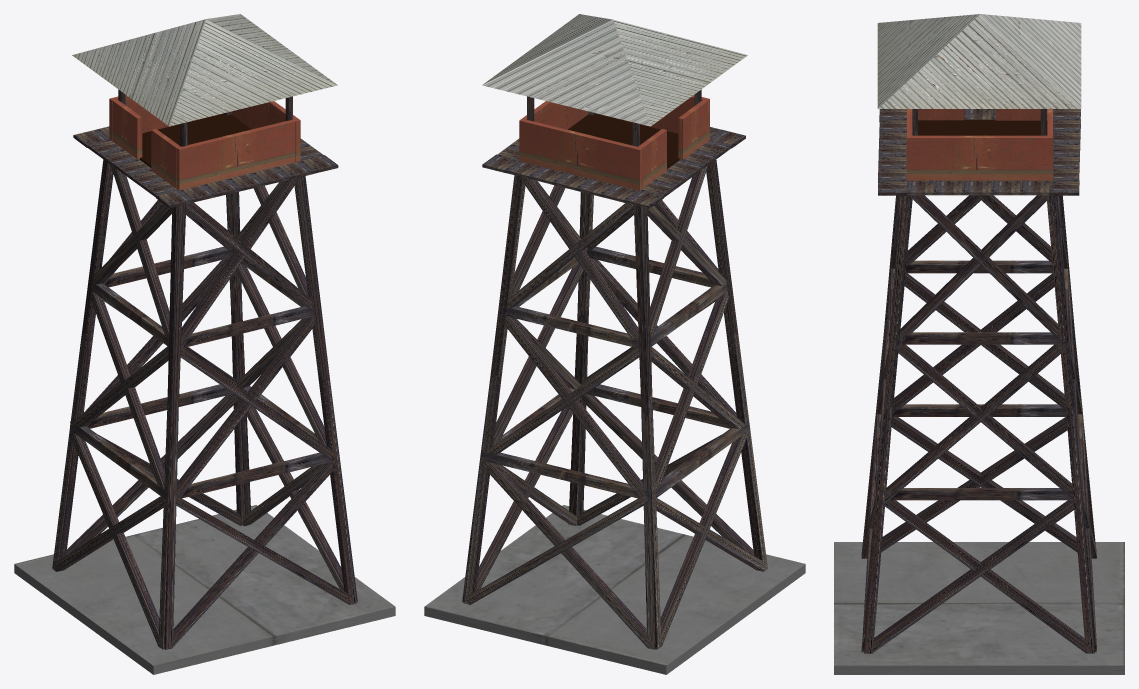
File: Guard_Tower.fbx
3 renders of one model, left to right at view 1: azimuth 30°, elevation 25°; view 2: azimuth 150°, elevation 25°; view 3: azimuth 270°, elevation 25°, orthographic. The views are drawn at different scales.
Visible parts, largest first — view 1: pCube16, pCube12, pCube14, pCube43, pCube15, pCube13, pCube35, floor, pCube37, pCube34, pCube38, pCube36; view 2: pCube16, pCube13, pCube14, pCube43, pCube12, pCube15, pCube36, floor, pCube38, pCube37, pCube34, pCube35; view 3: pCube16, pCube15, pCube43, pCube14, pCube34, pCube12, pCube13, floor, pCube31 (×2), pCube37, pCube38, pCube23 (+4 smaller).
Boxes of the visible parts, bbox=[...] form: pCube16: bbox=[14, 505, 395, 674]; pCube12: bbox=[164, 176, 356, 649]; pCube14: bbox=[52, 165, 186, 649]; pCube43: bbox=[72, 14, 337, 126]; pCube15: bbox=[226, 176, 357, 601]; pCube13: bbox=[65, 159, 242, 555]; pCube35: bbox=[176, 118, 299, 190]; floor: bbox=[140, 113, 251, 167]; pCube37: bbox=[112, 99, 142, 159]; pCube34: bbox=[231, 101, 300, 161]; pCube38: bbox=[151, 128, 180, 188]; pCube36: bbox=[109, 95, 212, 141]; pCube16: bbox=[424, 505, 805, 674]; pCube13: bbox=[463, 175, 655, 649]; pCube14: bbox=[633, 166, 767, 649]; pCube43: bbox=[482, 14, 747, 126]; pCube12: bbox=[577, 160, 754, 555]; pCube15: bbox=[462, 175, 593, 601]; pCube36: bbox=[519, 120, 642, 190]; floor: bbox=[568, 114, 679, 168]; pCube38: bbox=[678, 100, 707, 159]; pCube37: bbox=[638, 129, 666, 187]; pCube34: bbox=[520, 101, 588, 129]; pCube35: bbox=[596, 95, 709, 140]; pCube16: bbox=[834, 542, 1124, 674]; pCube15: bbox=[864, 195, 1094, 653]; pCube43: bbox=[877, 14, 1081, 108]; pCube14: bbox=[881, 195, 1077, 552]; pCube34: bbox=[906, 135, 1052, 180]; pCube12: bbox=[861, 195, 912, 652]; pCube13: bbox=[1046, 195, 1096, 652]; floor: bbox=[918, 119, 1047, 135]; pCube31 (×2): bbox=[878, 180, 1079, 195]; pCube37: bbox=[995, 109, 1047, 120]; pCube38: bbox=[918, 109, 964, 120]; pCube23: bbox=[993, 180, 1022, 195].
Size of what is drawn, in the model's own units: 10.04 by 22.75 by 9.99.
Materials: 5 (4 with a texture image).
